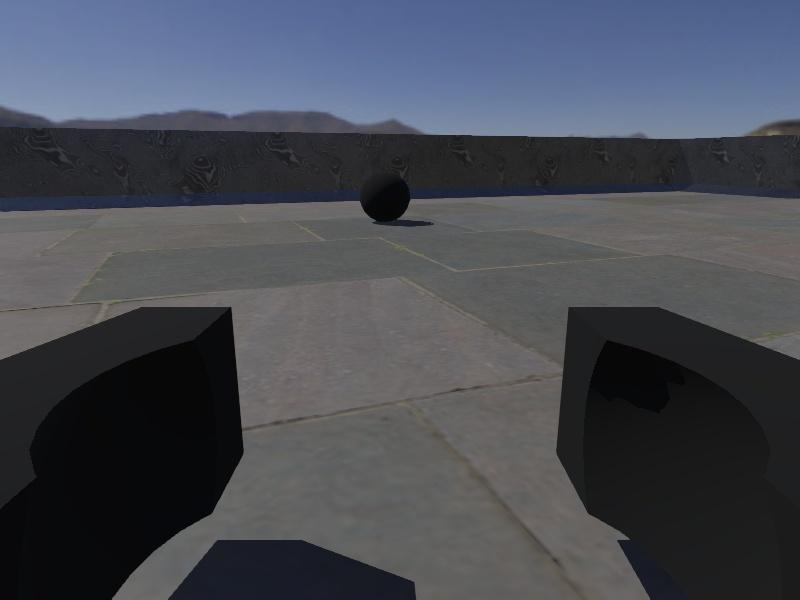black ball: (358, 169, 412, 223)
